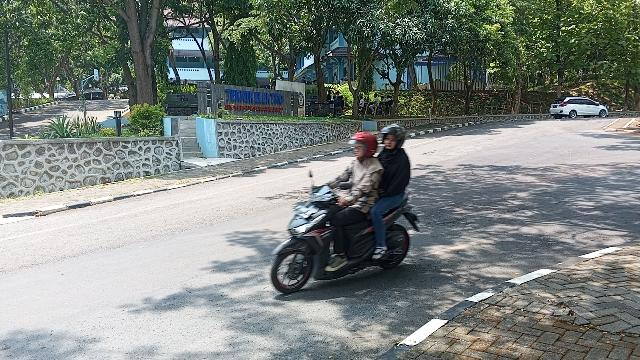helm: (348, 132, 379, 162), (381, 124, 408, 152)
motor: (271, 169, 424, 296)
